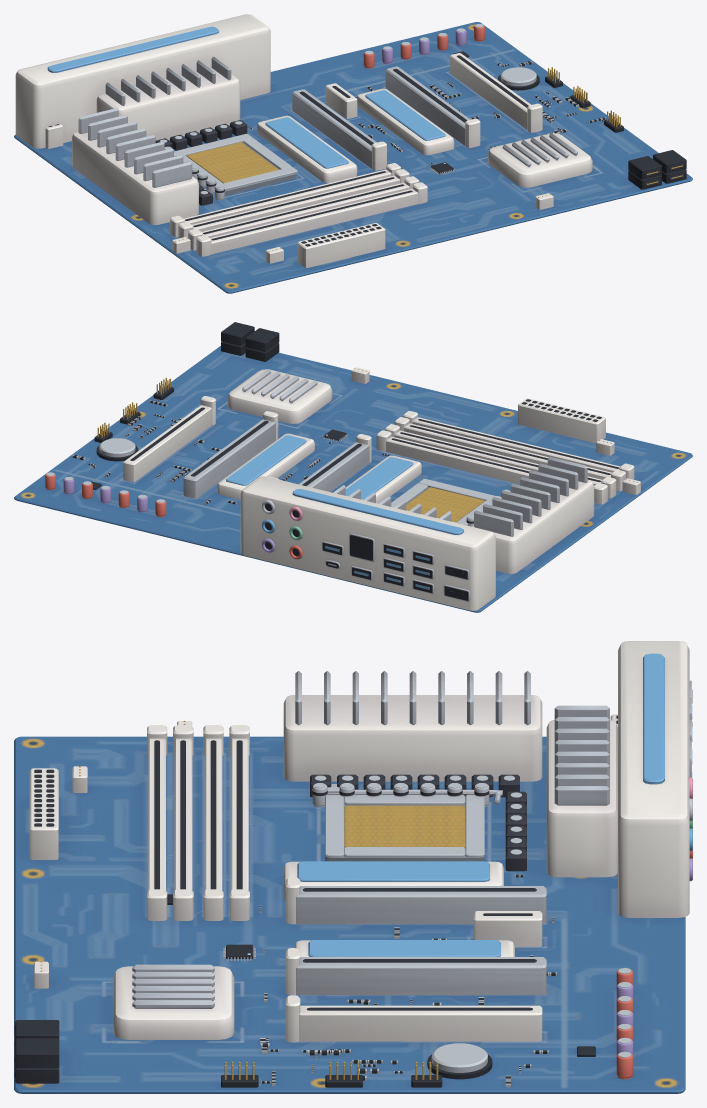
File: motherboard.glb
The picture shows the model from 3 angles, top to bottom: view 1: azimuth 30°, elevation 25°; view 2: azimuth 150°, elevation 25°; view 3: azimuth 270°, elevation 25°; orthographic projection. The views are drawn at different scales.
Parts seen in each view (by area): view 1: motherboard_body; view 2: motherboard_body; view 3: motherboard_body.
Boxes of the visible parts, bbox=[...] form: motherboard_body: bbox=[14, 14, 692, 293]; motherboard_body: bbox=[14, 322, 692, 612]; motherboard_body: bbox=[14, 641, 692, 1093].
Bounding box in the file's own units: 0.305 × 0.043 × 0.2467.
1 material, 1 textured.
